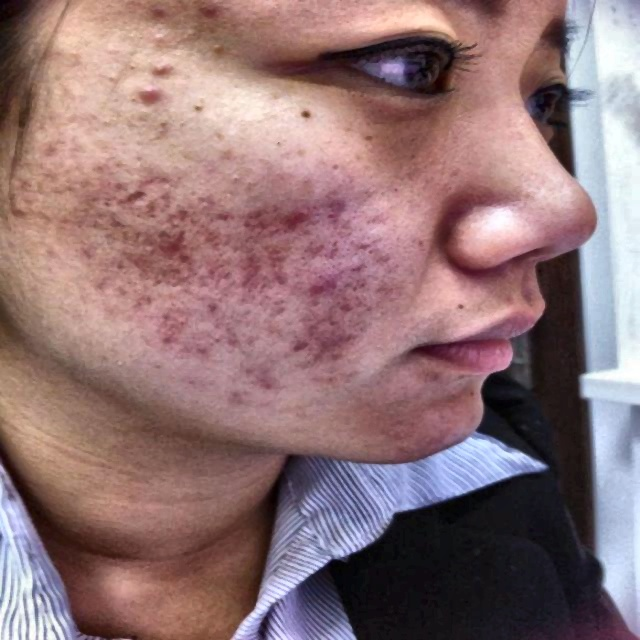pustule: (160, 229, 202, 274), (188, 1, 240, 32), (320, 327, 364, 358), (126, 78, 173, 106), (113, 188, 151, 216), (151, 306, 193, 331), (249, 360, 278, 396), (138, 54, 189, 74), (270, 268, 302, 296), (286, 205, 320, 231), (341, 259, 375, 284), (244, 209, 272, 239), (333, 298, 365, 324), (231, 243, 267, 266), (301, 270, 326, 300), (151, 334, 193, 351), (286, 334, 310, 362), (234, 272, 259, 297), (132, 246, 152, 270)
